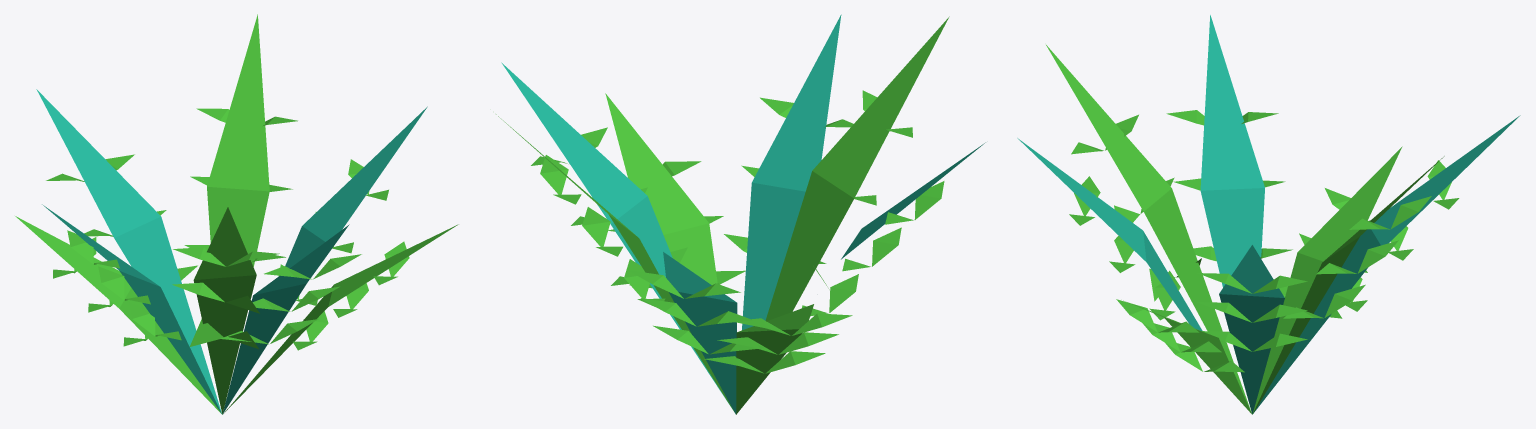
Rendered from fern_b.fbx.
The picture shows the model from 3 angles, left to right: view 1: azimuth 30°, elevation 25°; view 2: azimuth 150°, elevation 25°; view 3: azimuth 270°, elevation 25°; orthographic projection. The views are drawn at different scales.
Visible parts, largest first — view 1: fern_b; view 2: fern_b; view 3: fern_b.
Boxes of the visible parts, x1,y1,x2,y2 form: fern_b: (15,14,458,414); fern_b: (496,14,985,414); fern_b: (1017,15,1520,414).
Bounding box in the file's own units: 1.4 × 1 × 1.4.
